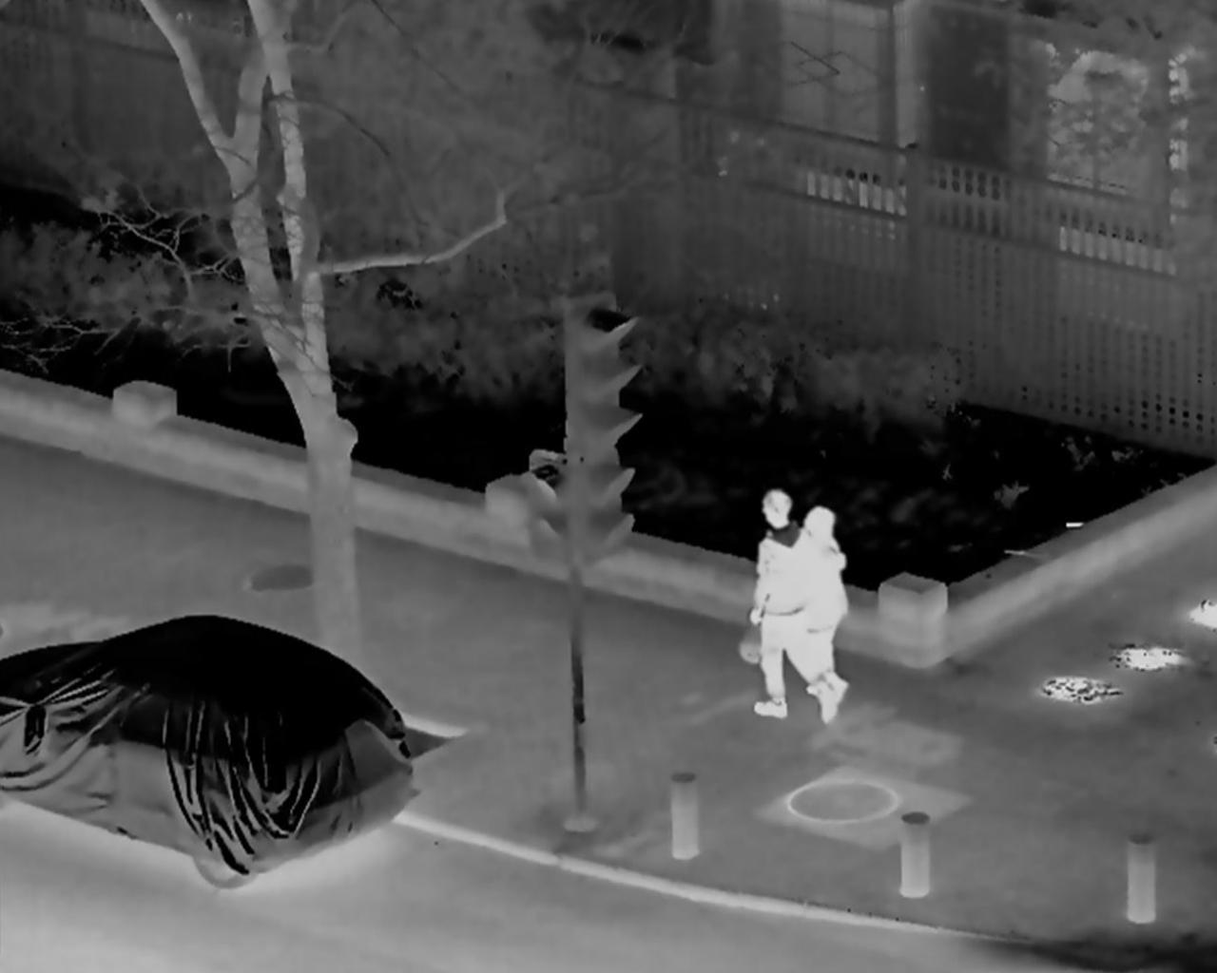person: (746, 491, 842, 726), (800, 506, 855, 717)
